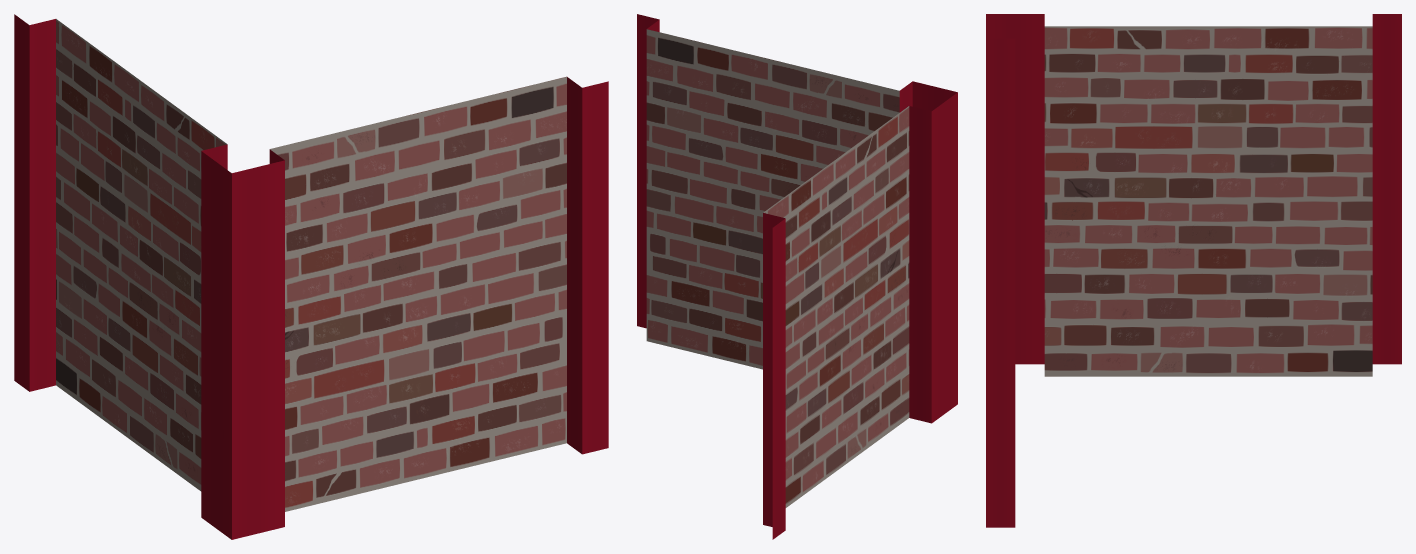
Rendered from wallcurf0.1.fbx.
The picture shows the model from 3 angles, left to right: view 1: azimuth 30°, elevation 25°; view 2: azimuth 150°, elevation 25°; view 3: azimuth 270°, elevation 25°; orthographic projection. The views are drawn at different scales.
Parts seen in each view (by area): view 1: wallcurf; view 2: wallcurf; view 3: wallcurf.
Boxes of the visible parts, box(x1,y1,x2,y2) form: wallcurf: box(14, 14, 608, 539); wallcurf: box(637, 14, 957, 539); wallcurf: box(986, 14, 1401, 527).
Bounding box in the file's own units: 56.97 × 52.96 × 56.97.
